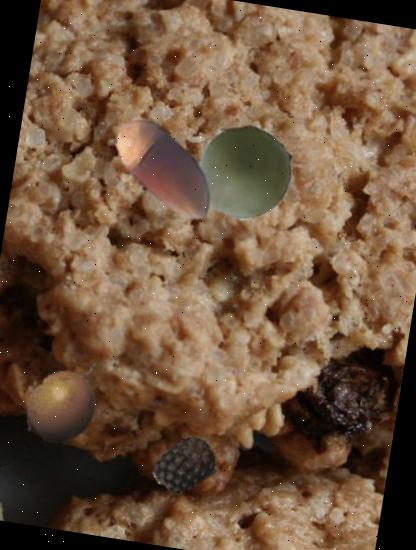Granadilla: (13, 346, 124, 458)
Grape: (189, 116, 304, 230)
Hazelnut: (92, 95, 240, 244)
Pineapple: (148, 429, 221, 502)
